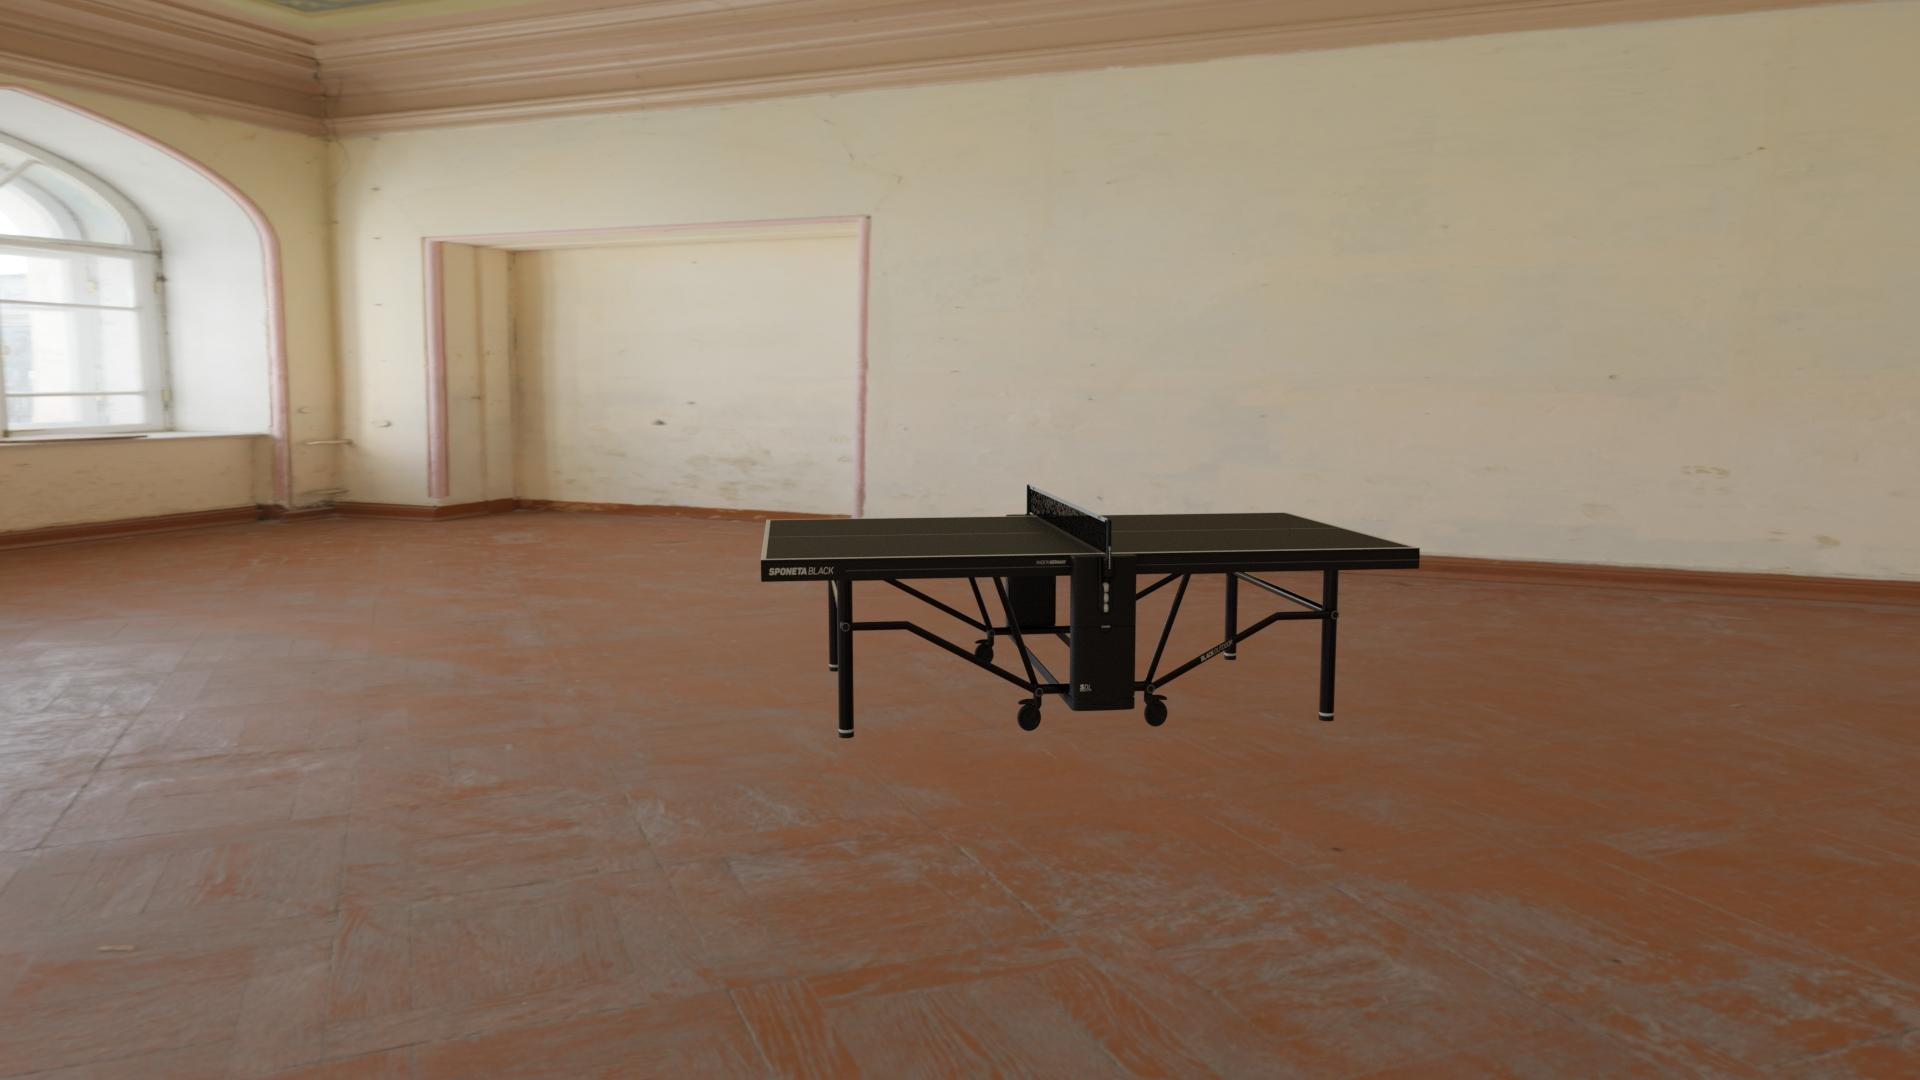table: (766, 513, 1414, 559)
